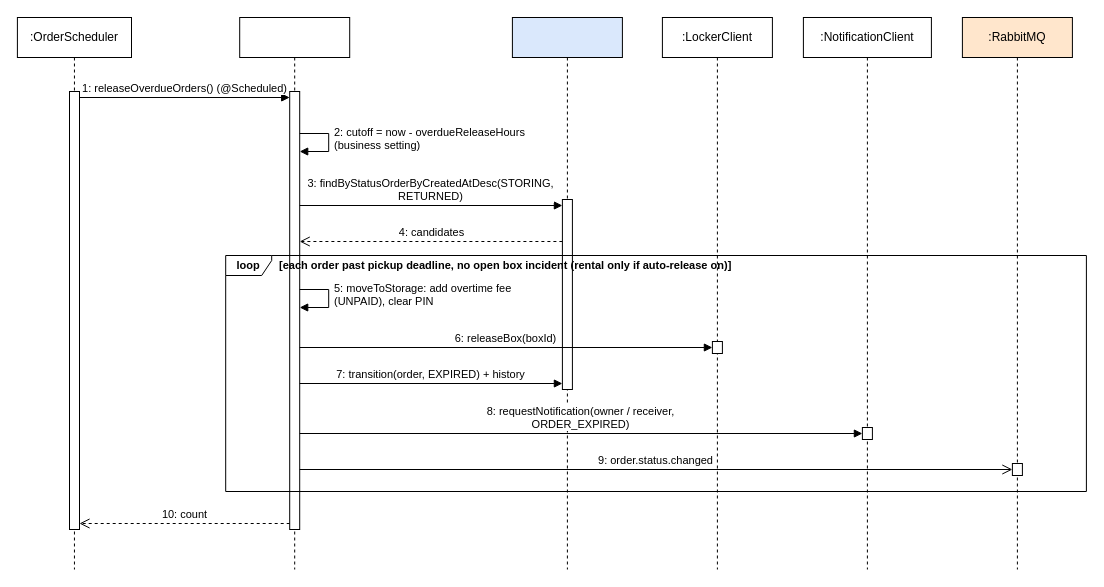
The diagram is 1104 pixels wide and 587 high, and some of its shapes have lost their labels. Each missing label, with the box of its shape:
:order_db: (511, 16, 622, 570)
:OrderService: (239, 16, 350, 570)
